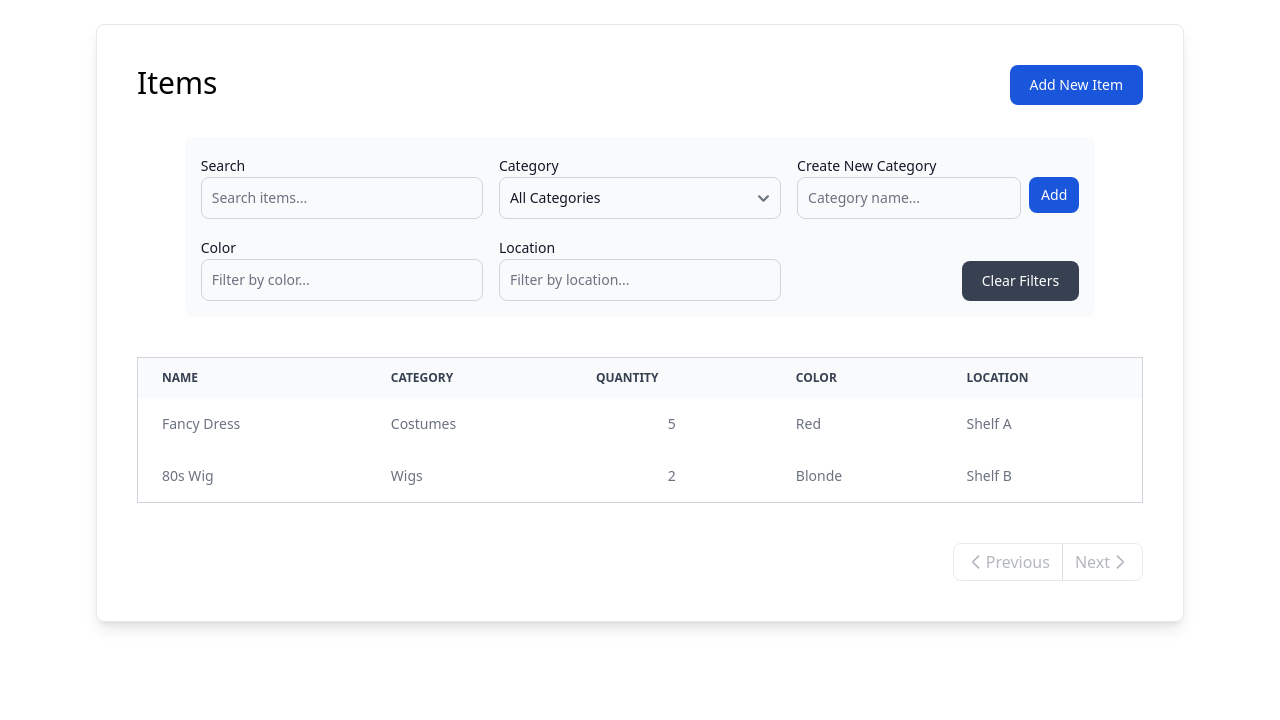
Scenario: Items Page › applies category filter and updates the table
Expected: the text "80s Wig" is shown, left=138, top=450, right=367, bottom=502
Select "Costumes" in the dropdown with test id "category-select" at (640,198), box left=499, top=177, right=781, bottom=219
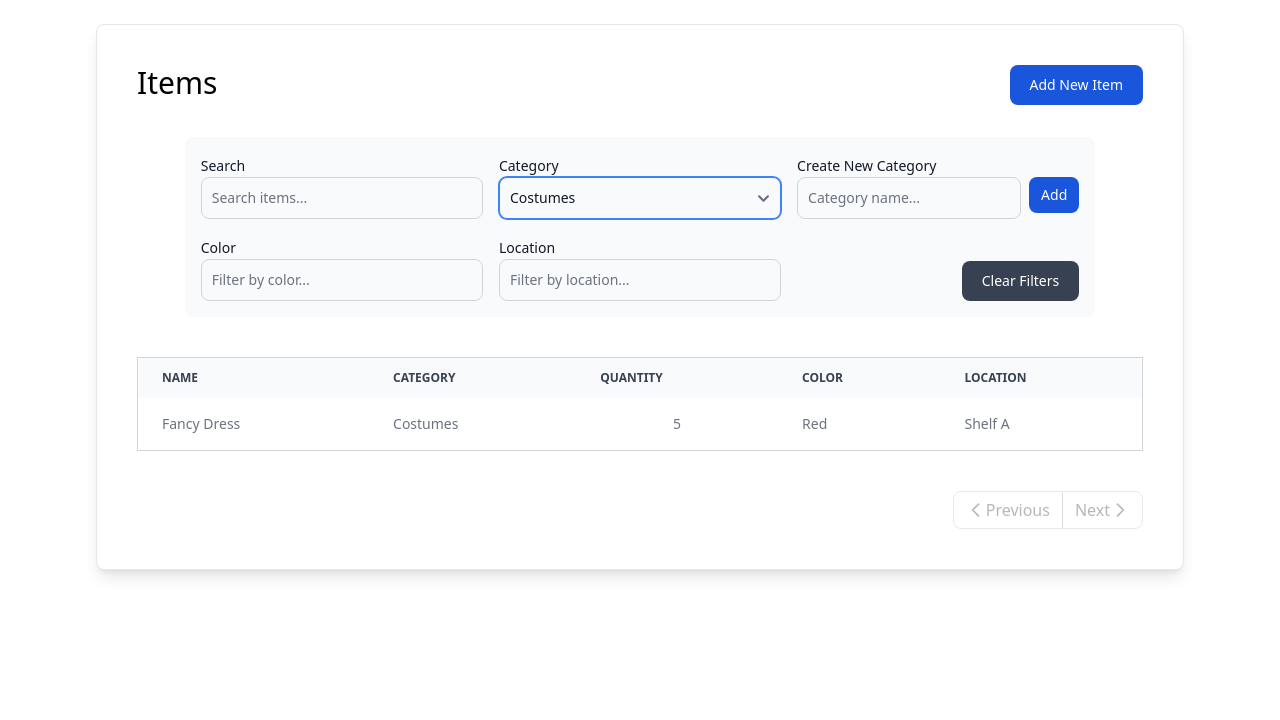
Expected: the text "Fancy Dress" is shown, left=138, top=398, right=369, bottom=450
Result: the text "80s Wig" is gone
